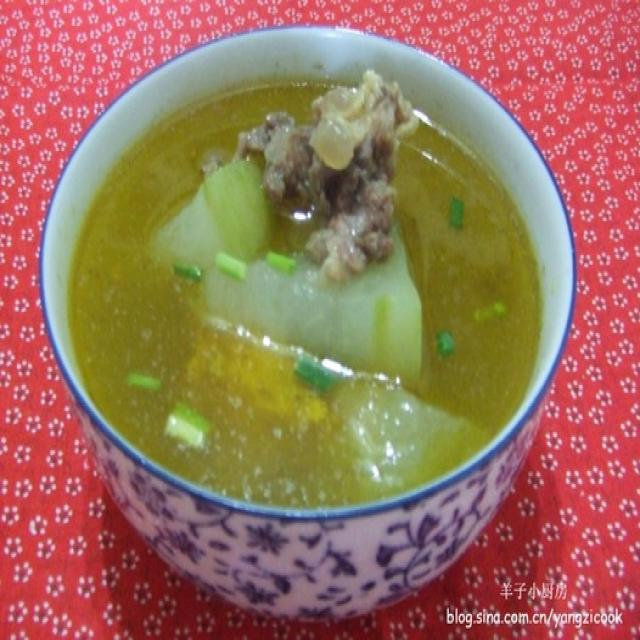汤锅炖物: (100, 68, 523, 512)
